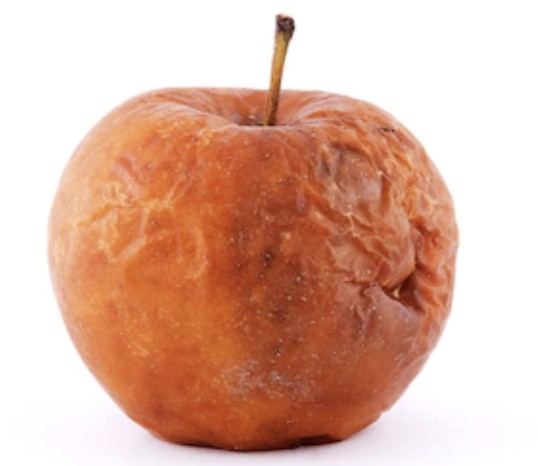rotten_apple: (48, 86, 460, 454)
